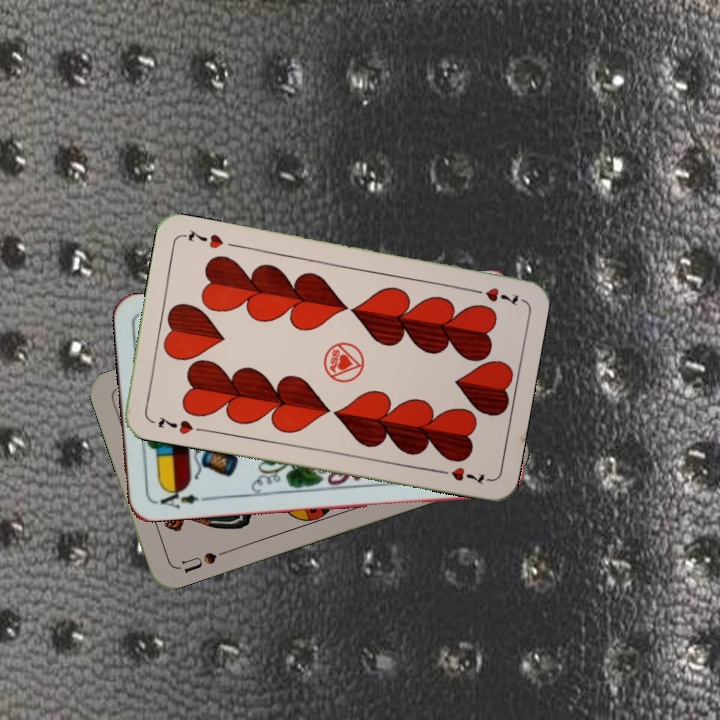EA: (156, 483, 210, 511)
H7: (465, 283, 521, 308), (154, 412, 196, 437)
SU: (173, 545, 230, 576)
